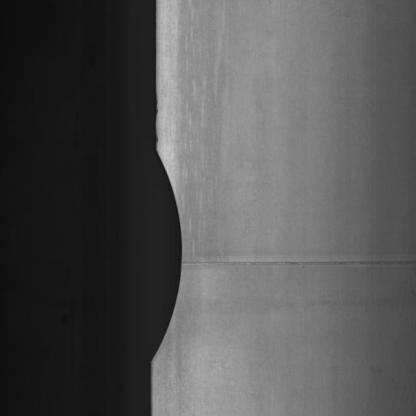crescent_gap: (140, 140, 185, 374)
welding_line: (183, 245, 414, 278)
